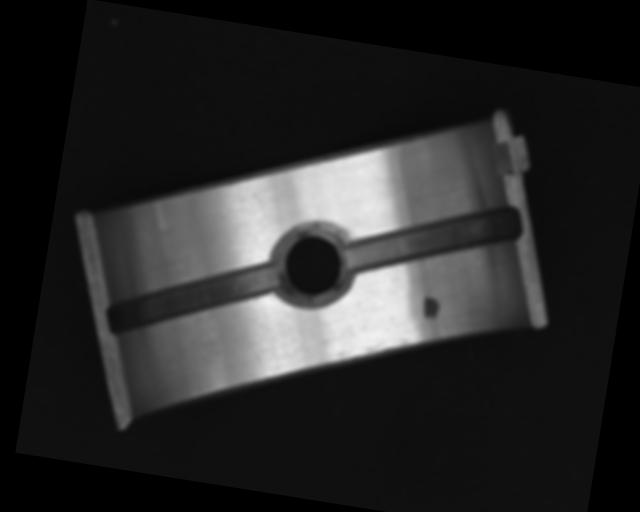blot: (420, 292, 442, 322)
gap: (102, 237, 283, 357), (344, 182, 523, 299)
hole: (273, 217, 353, 306)
